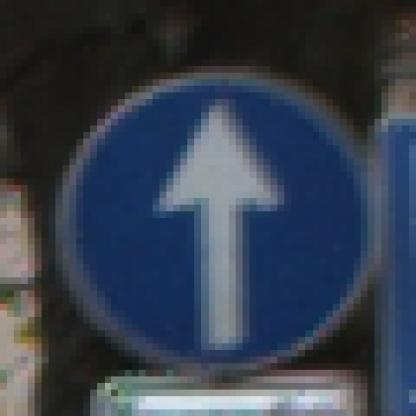AheadOnly: (43, 41, 382, 384)
